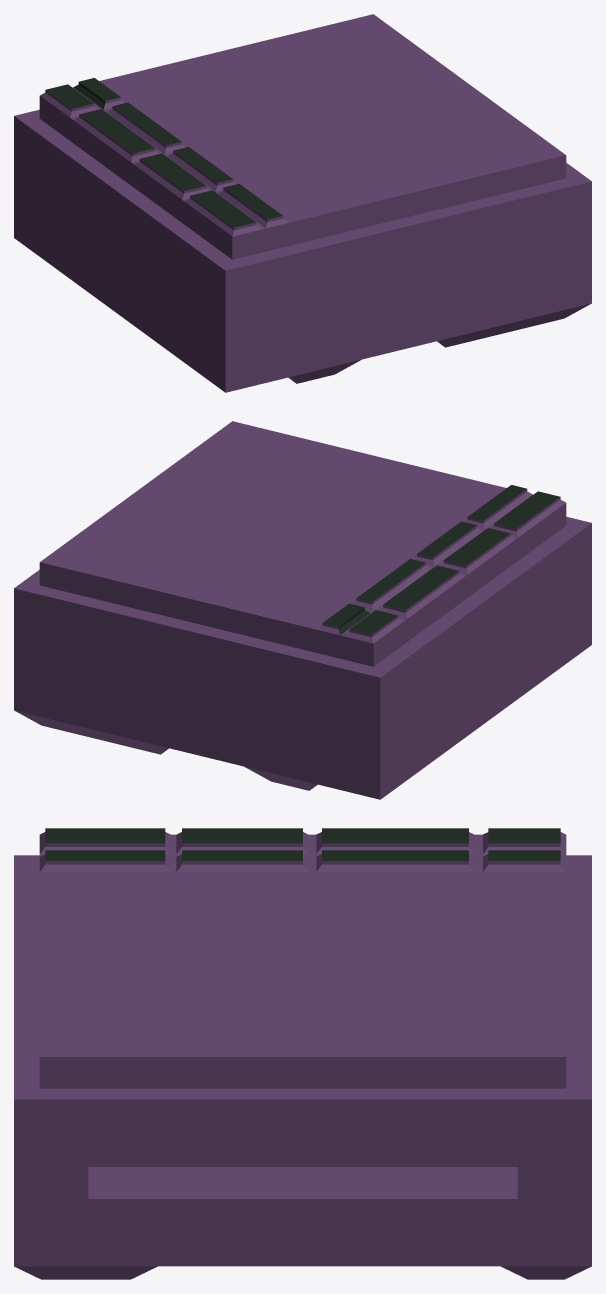
File: Cd player.fbx
The picture shows the model from 3 angles, top to bottom: view 1: azimuth 30°, elevation 25°; view 2: azimuth 150°, elevation 25°; view 3: azimuth 270°, elevation 25°; orthographic projection. The views are drawn at different scales.
Parts seen in each view (by area): view 1: Cube; view 2: Cube; view 3: Cube.
Boxes of the visible parts, x1,y1,x2,y2 form: Cube: (14,14,591,392); Cube: (14,421,591,799); Cube: (14,828,591,1279).
Size of the model in its own units: 200 by 88.66 by 200.
